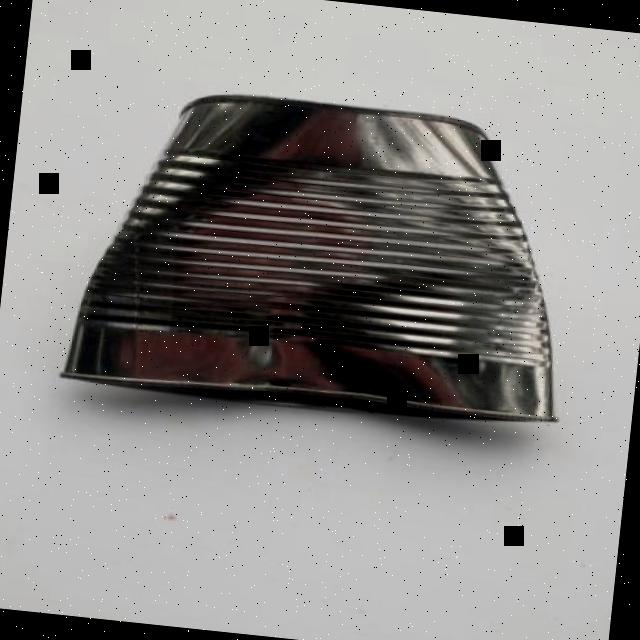can: (58, 71, 600, 442)
